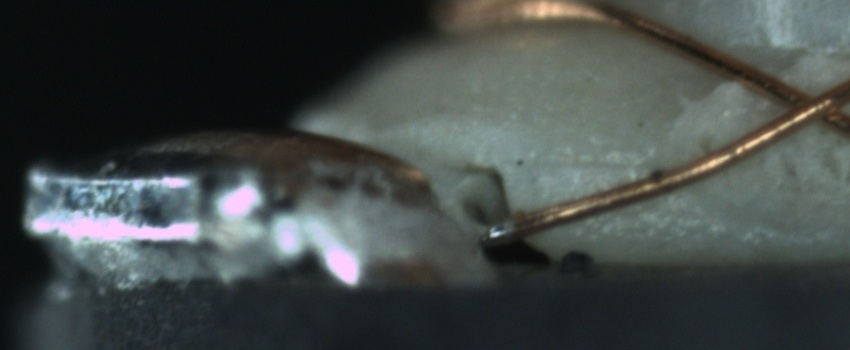CL: (756, 68, 848, 138)
DL: (528, 134, 660, 194)
TS: (480, 218, 514, 242)
